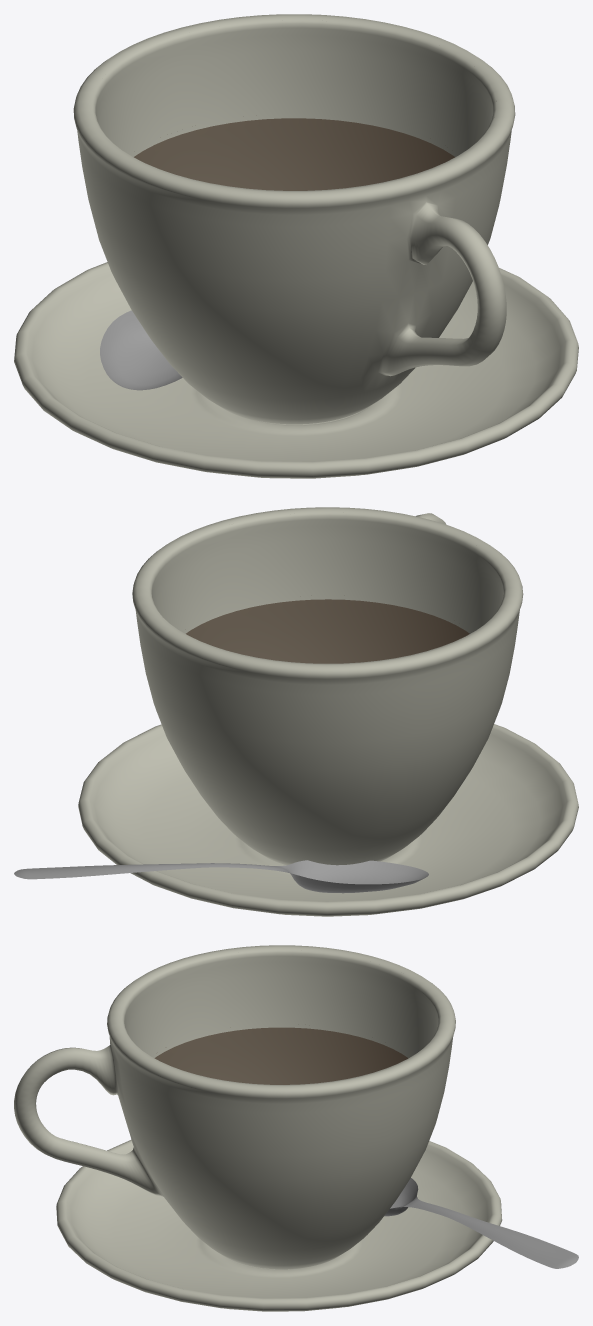
The model's file is coffee.glb.
The picture shows the model from 3 angles, top to bottom: view 1: azimuth 30°, elevation 25°; view 2: azimuth 150°, elevation 25°; view 3: azimuth 270°, elevation 25°; orthographic projection. The views are drawn at different scales.
Parts seen in each view (by area): view 1: Coffee; view 2: Coffee; view 3: Coffee.
Boxes of the visible parts, left/top/right/bottom form: Coffee: left=14, top=14, right=578, bottom=478; Coffee: left=14, top=507, right=578, bottom=916; Coffee: left=14, top=945, right=578, bottom=1311.
Size of the model in its own units: 15.82 by 9.2 by 20.05.
